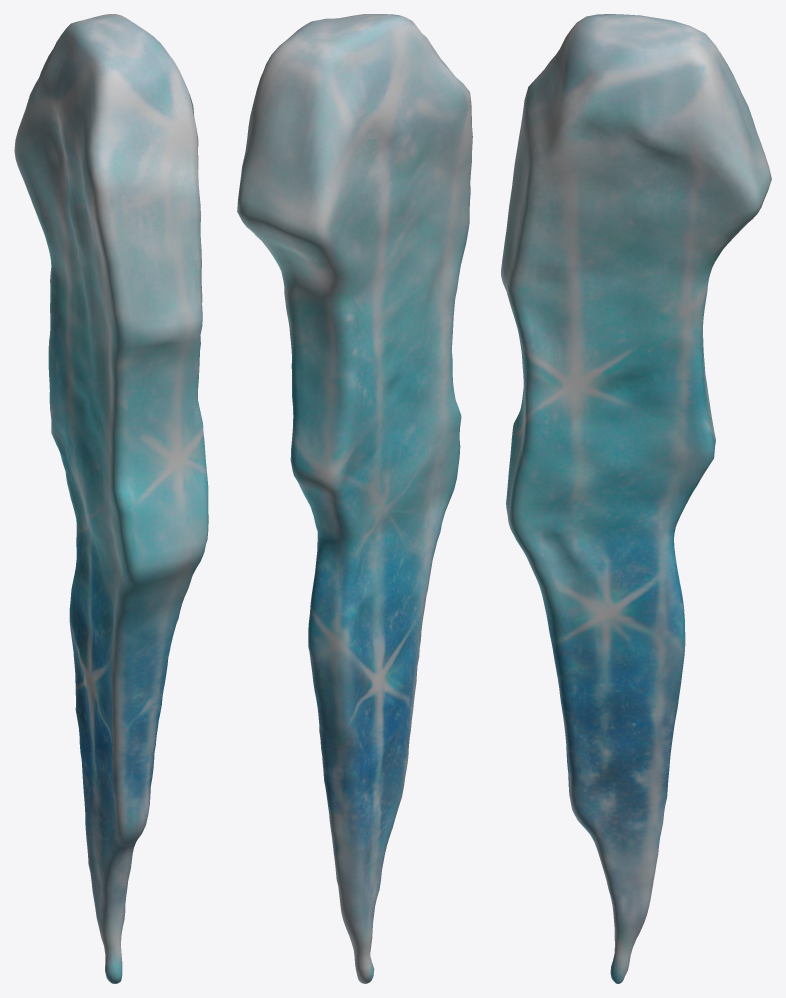
File: 91b25bd48a56_icicle_min.fbx
3 views of the same model, side by side, from view 1: azimuth 30°, elevation 25°; view 2: azimuth 150°, elevation 25°; view 3: azimuth 270°, elevation 25° (orthographic). The views are drawn at different scales.
Parts seen in each view (by area): view 1: mesh; view 2: mesh; view 3: mesh.
Part boxes in pixels (<box>): mesh: <box>14,14,208,983</box>; mesh: <box>237,14,472,983</box>; mesh: <box>501,14,771,983</box>.
Size of the model in its own units: 14.37 by 99.8 by 25.51.
